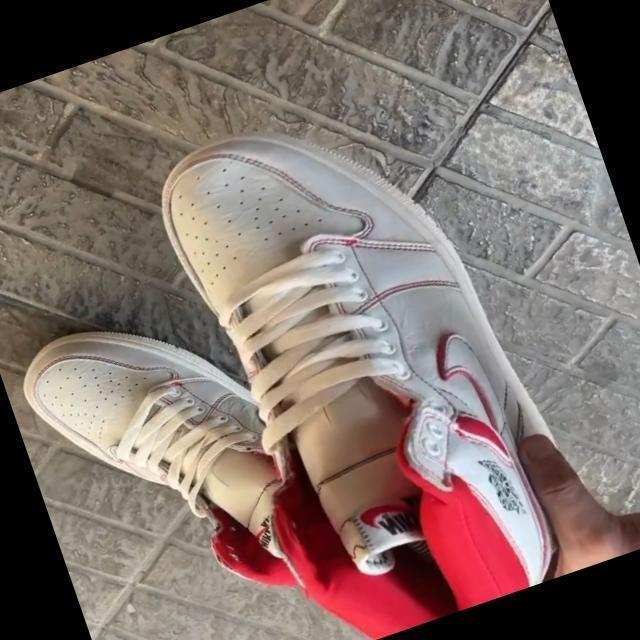nike fake jordan 1: (129, 63, 594, 640), (5, 260, 372, 640)
